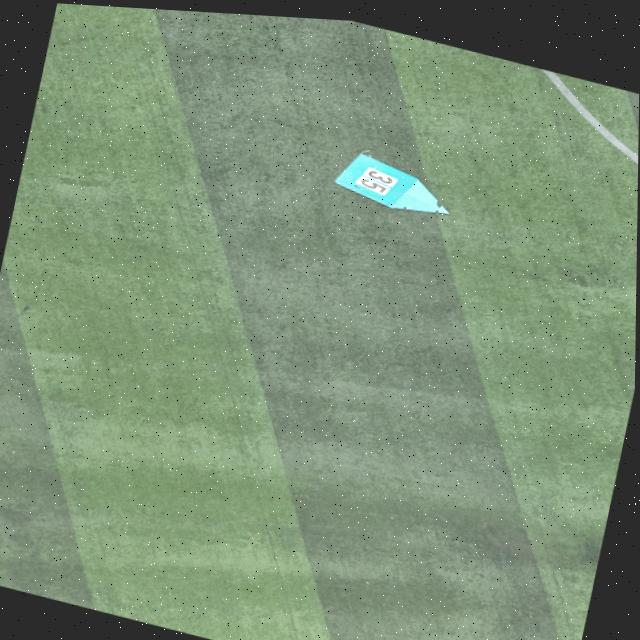board: (328, 145, 451, 209)
